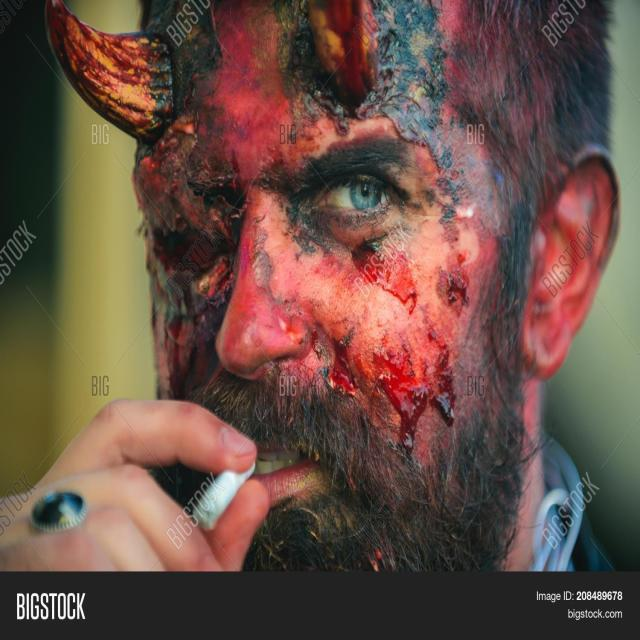flood: (372, 261, 462, 459)
